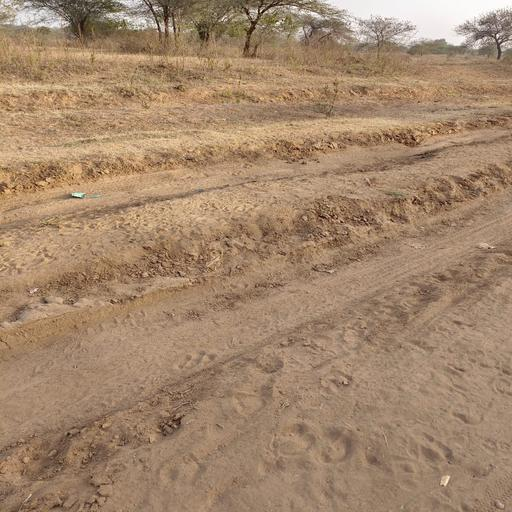vehicle_track: (0, 191, 512, 450), (0, 131, 509, 223)
